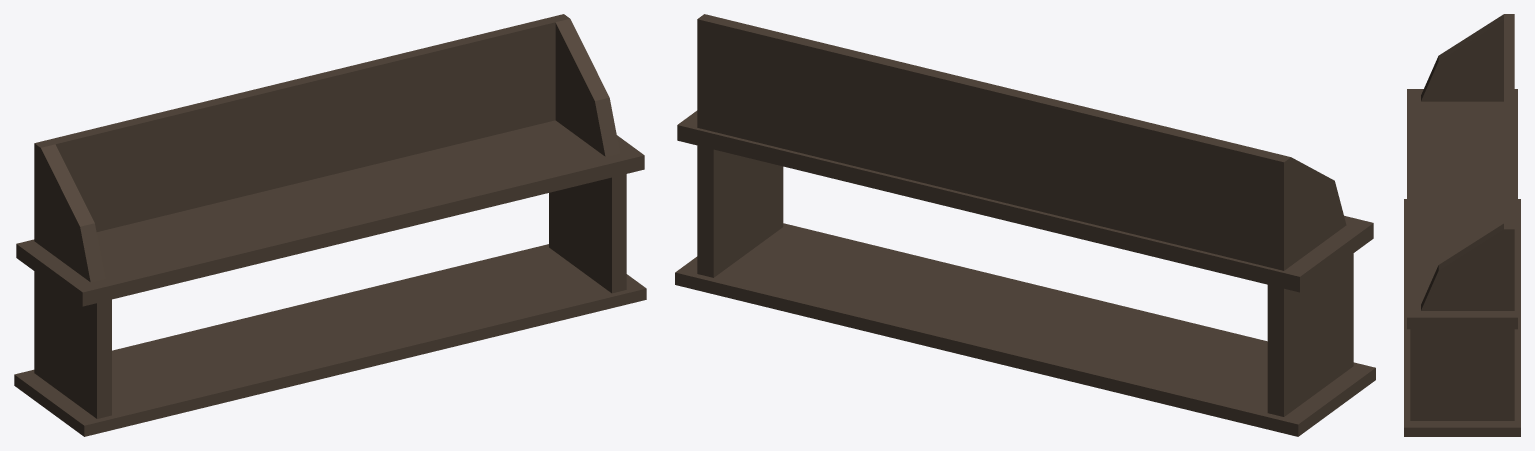
File: BookShelf.fbx
The picture shows the model from 3 angles, left to right: view 1: azimuth 30°, elevation 25°; view 2: azimuth 150°, elevation 25°; view 3: azimuth 270°, elevation 25°; orthographic projection. The views are drawn at different scales.
Parts seen in each view (by area): view 1: Cube; view 2: Cube; view 3: Cube.
Part boxes in pixels (<box>): Cube: <box>14,14,646,436</box>; Cube: <box>675,14,1375,436</box>; Cube: <box>1404,14,1520,436</box>.
Size of the model in its own units: 6.63 by 2.72 by 1.43.
